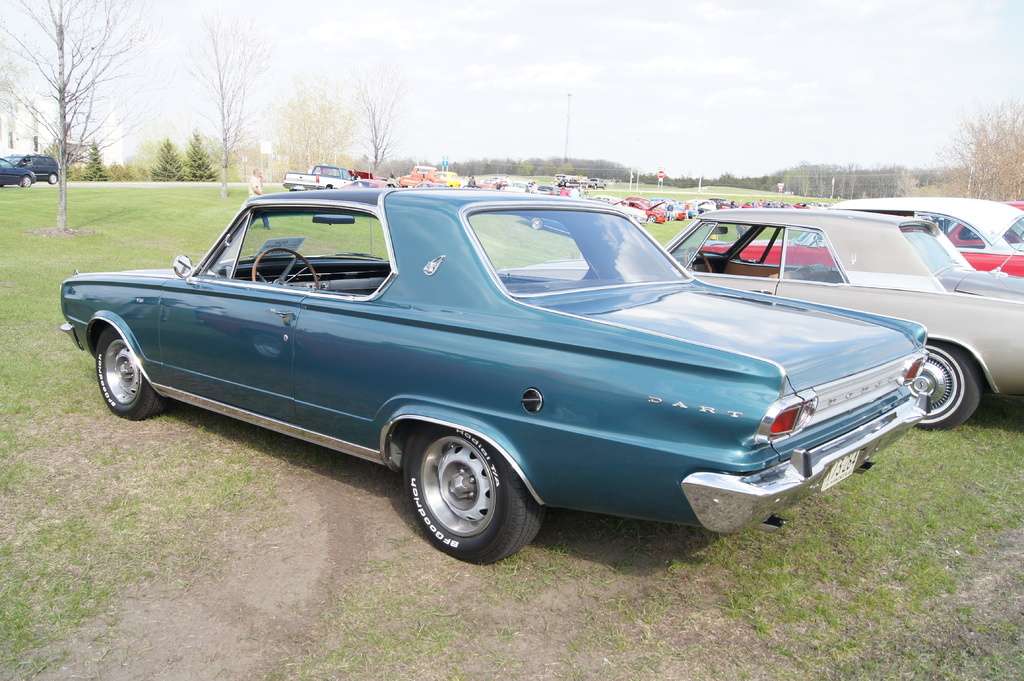Car: (69, 191, 956, 564), (498, 207, 1023, 433), (339, 173, 832, 234), (699, 195, 1023, 278), (951, 199, 1023, 241), (5, 152, 58, 183), (0, 156, 36, 184)
